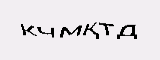Е: (25, 11, 45, 44)
К: (83, 16, 104, 42)
Л: (49, 13, 77, 44)
У: (120, 22, 132, 42)
Ш: (104, 24, 120, 41)
